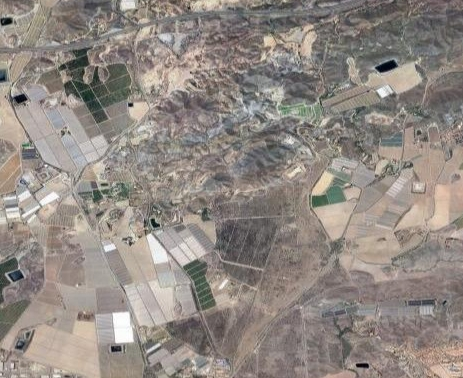motorway: (1, 1, 391, 55)
